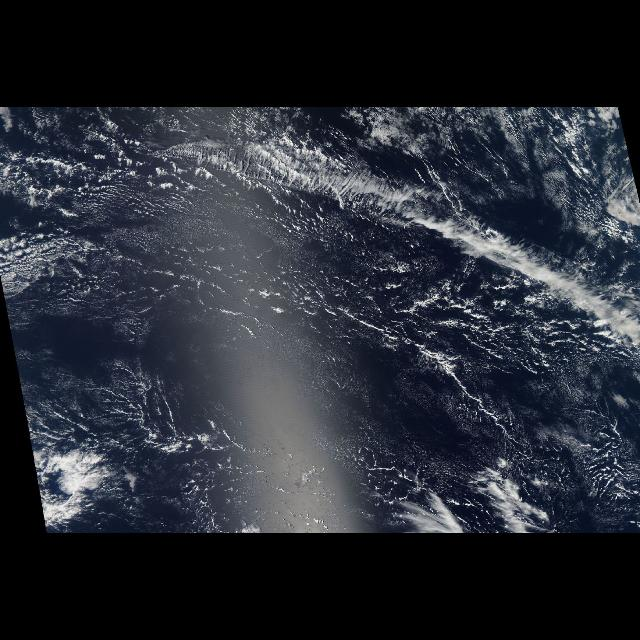Fish: (12, 138, 638, 454)
Sugar: (22, 212, 638, 528)
